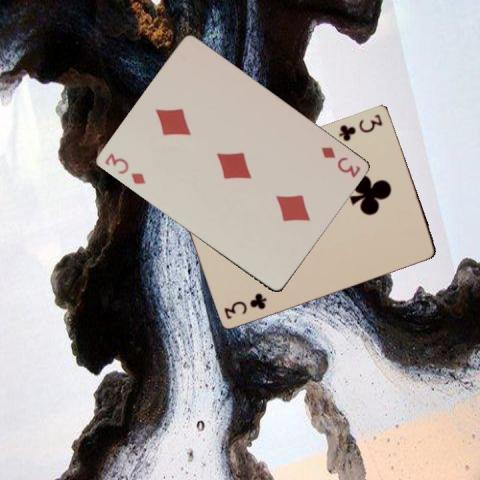3c: (336, 110, 384, 142), (221, 291, 269, 320)
3d: (101, 150, 147, 186), (318, 144, 361, 180)
